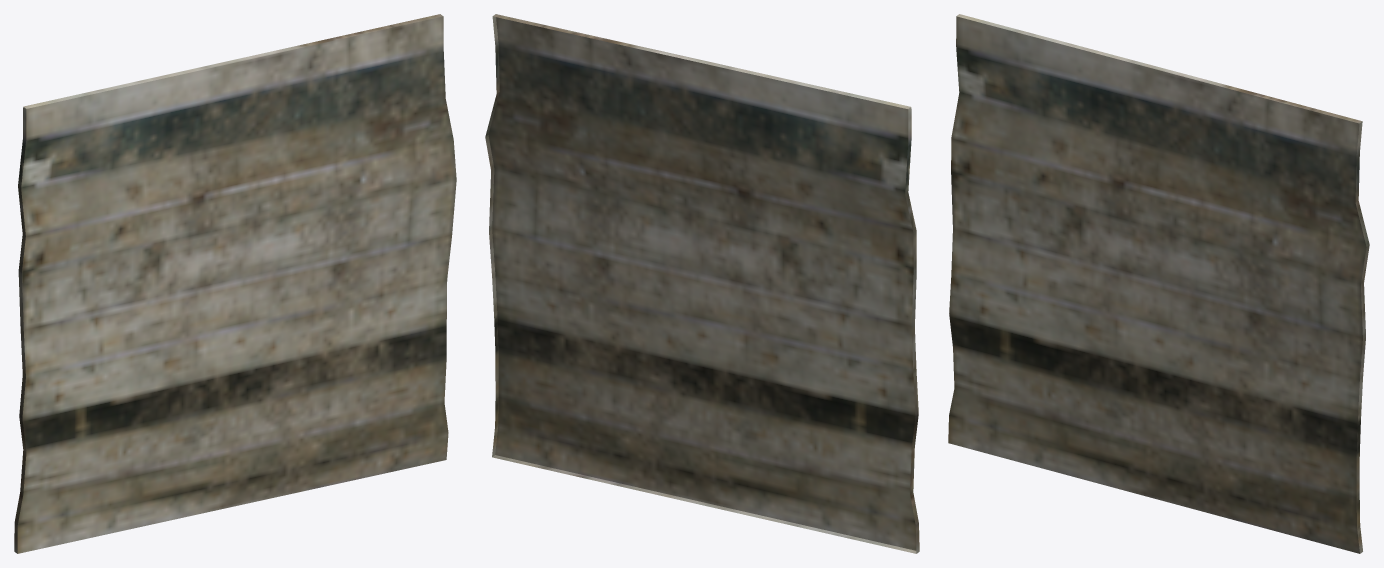
The model's file is PlanksBoardBroken.FBX.
3 views of the same model, side by side, from view 1: azimuth 30°, elevation 25°; view 2: azimuth 150°, elevation 25°; view 3: azimuth 330°, elevation 25° (orthographic). The views are drawn at different scales.
Parts seen in each view (by area): view 1: PlanksBoardBroken; view 2: PlanksBoardBroken; view 3: PlanksBoardBroken.
Boxes of the visible parts, x1,y1,x2,y2 form: PlanksBoardBroken: (14, 14, 456, 553); PlanksBoardBroken: (485, 14, 919, 553); PlanksBoardBroken: (948, 14, 1369, 553).
Bounding box in the file's own units: 159 × 158 × 8.64.
